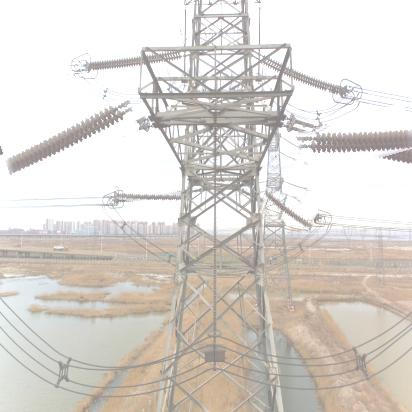insulator: (1, 107, 139, 166), (298, 110, 412, 172), (261, 192, 319, 227), (115, 187, 183, 207)
